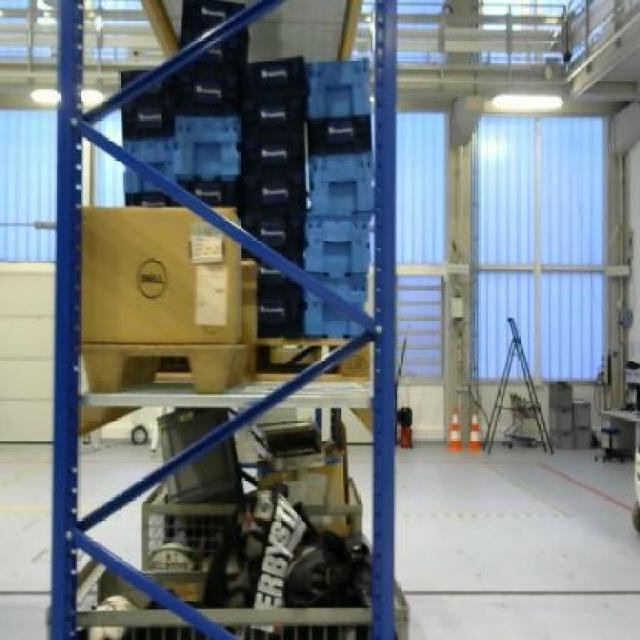box: (78, 203, 242, 342)
